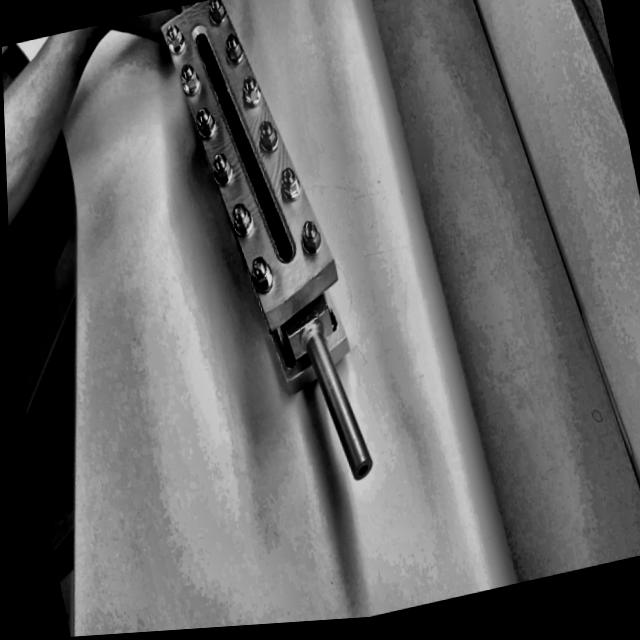ShuiWeiQi_12: (129, 0, 390, 523)
